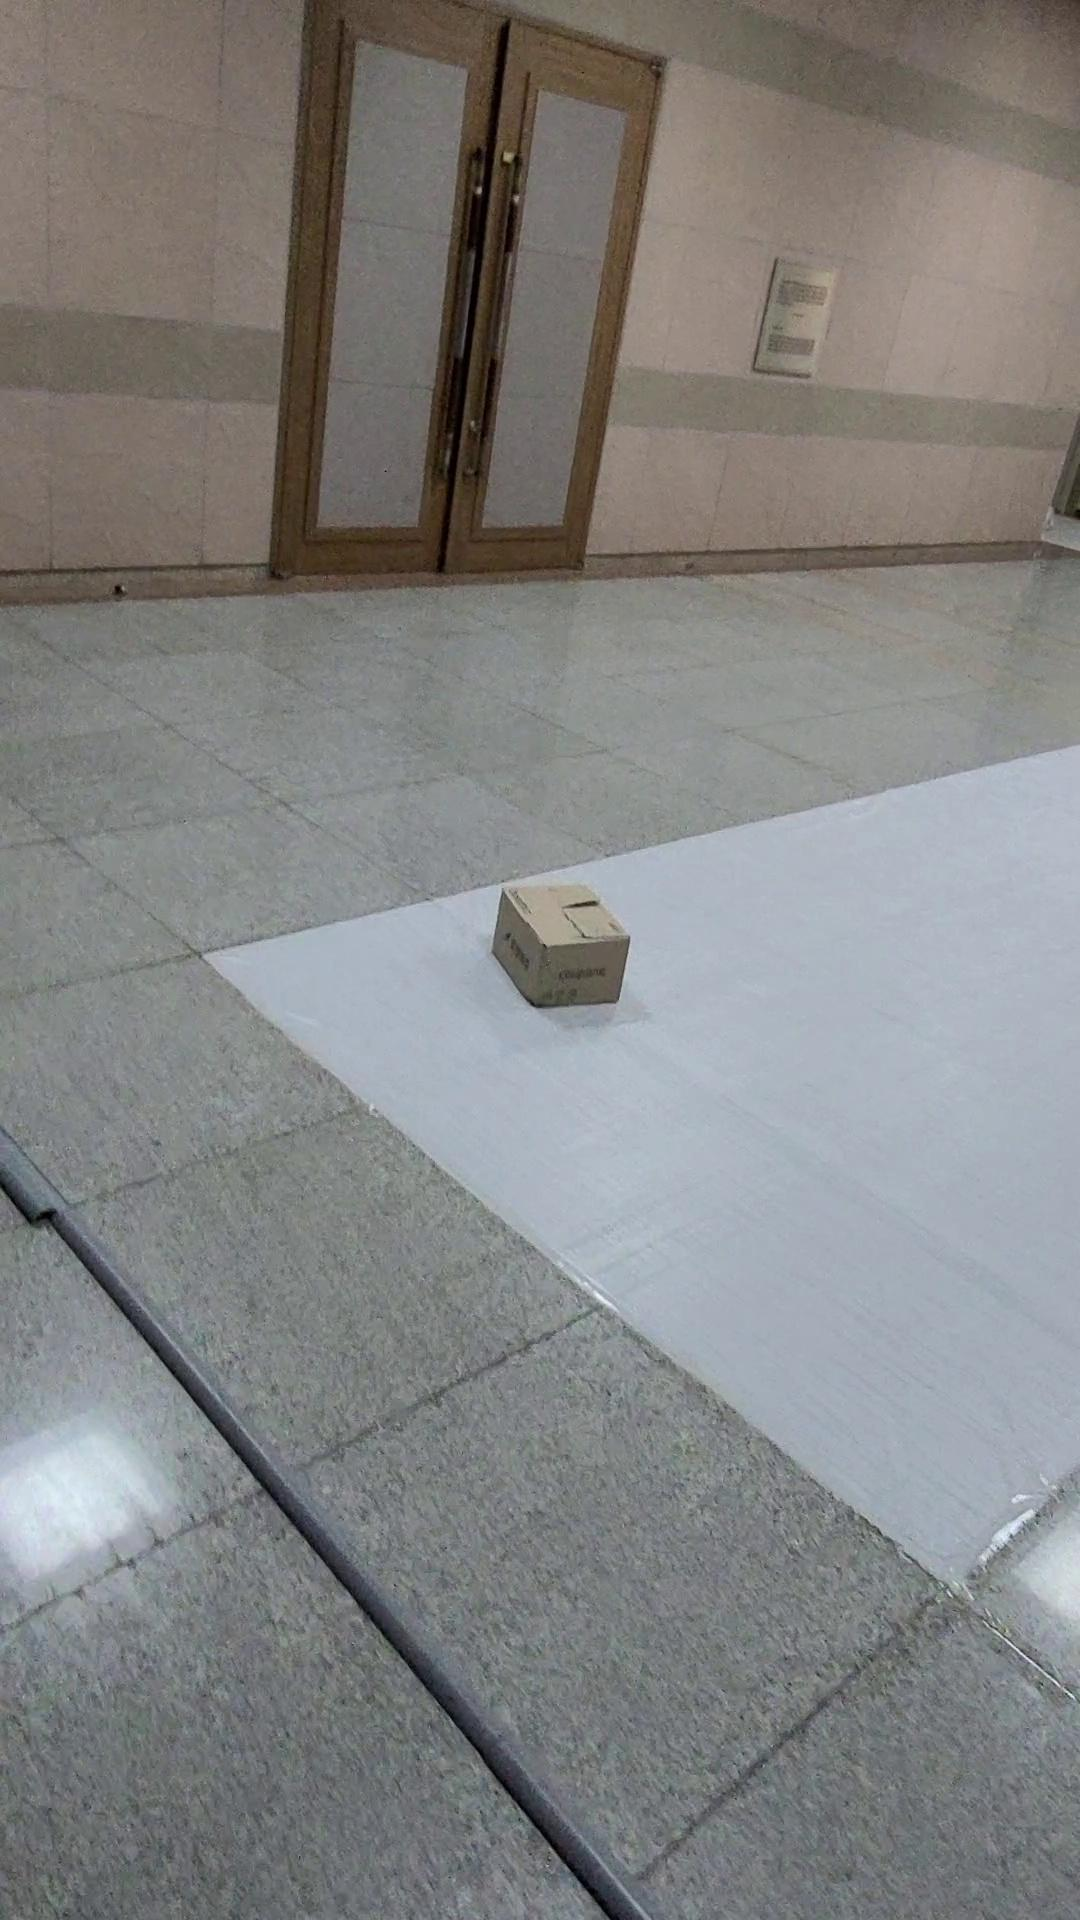Box: (483, 873, 662, 1033)
